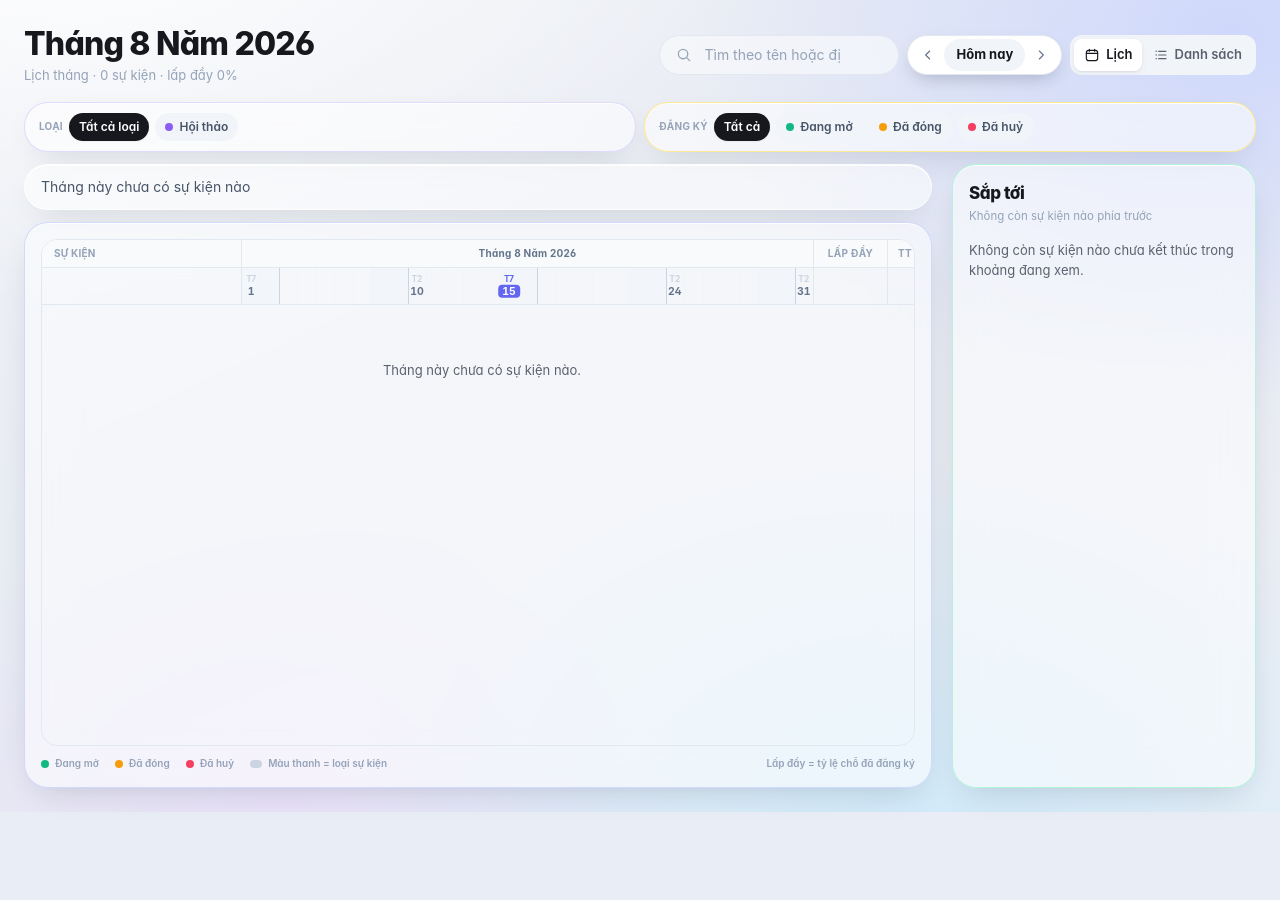
EventListPage — chế độ lịch › quay lại tháng trước khi bấm điều hướng ngược
Step 1. Click the button named "Tháng trước" → (928, 55), box [912,39,944,71]
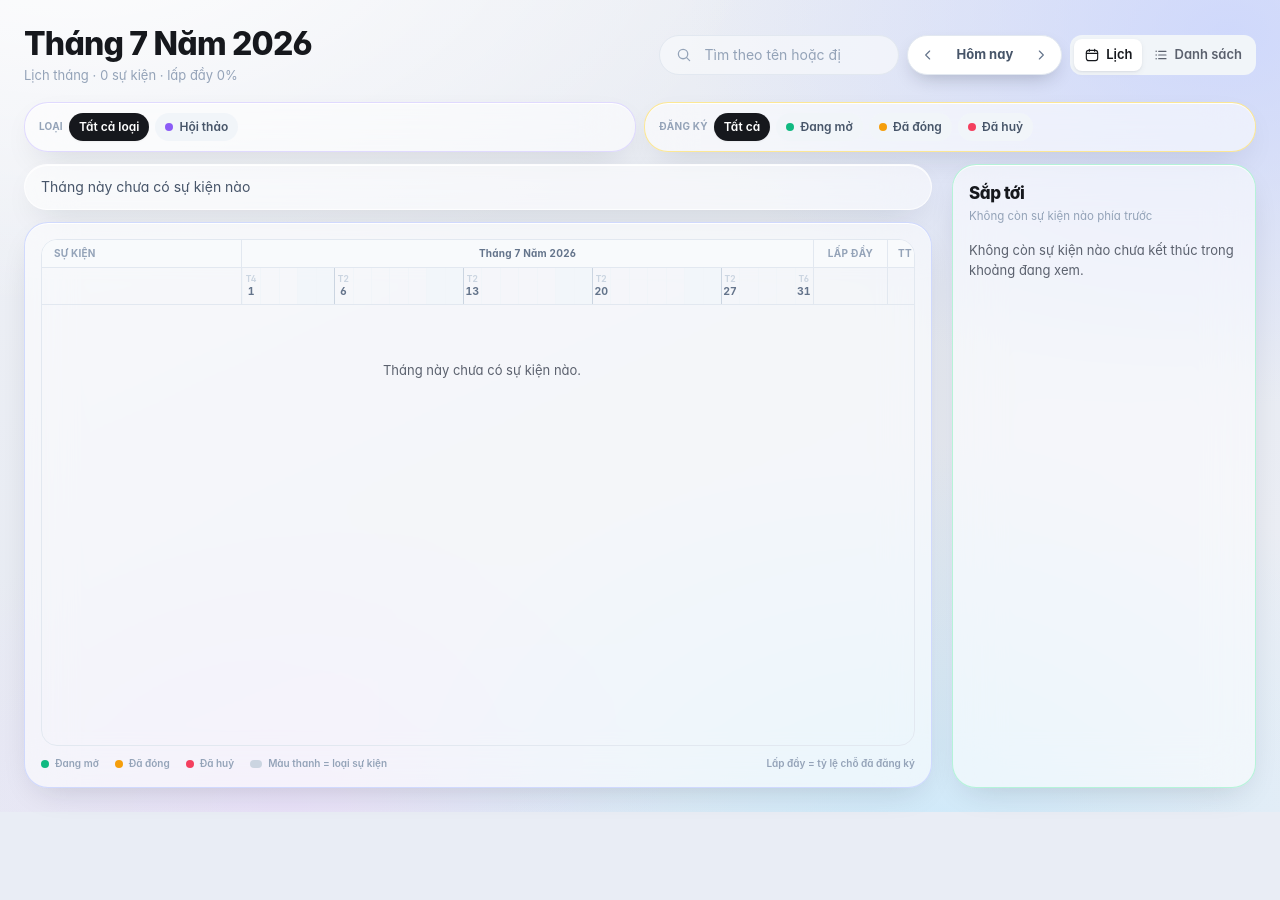
Check: the heading "tháng 7 năm 2026" is shown, box [24,24,312,63]
